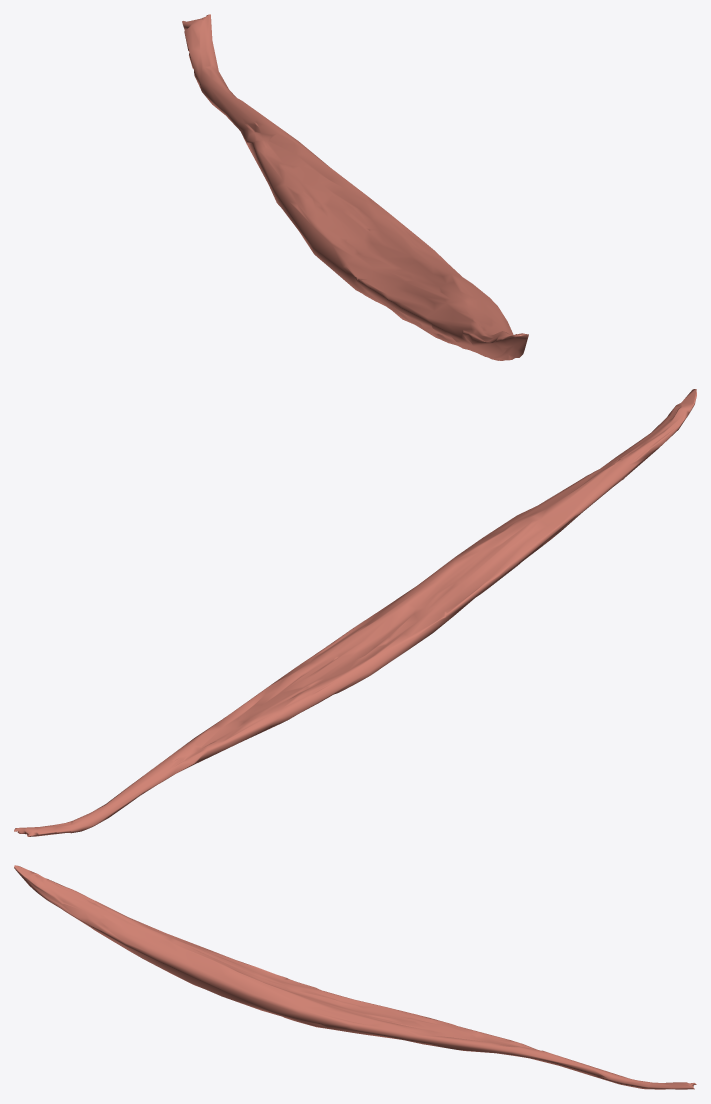
The picture shows the model from 3 angles, top to bottom: view 1: azimuth 30°, elevation 25°; view 2: azimuth 150°, elevation 25°; view 3: azimuth 270°, elevation 25°; orthographic projection. The views are drawn at different scales.
Parts seen in each view (by area): view 1: 左侧桡侧腕屈肌; view 2: 左侧桡侧腕屈肌; view 3: 左侧桡侧腕屈肌.
Boxes of the visible parts, box(x1,y1,x2,y2) form: 左侧桡侧腕屈肌: box(182, 14, 528, 360); 左侧桡侧腕屈肌: box(14, 389, 696, 836); 左侧桡侧腕屈肌: box(14, 865, 696, 1089).
Bounding box in the file's own units: 0.1335 × 0.0996 × 0.4211.
